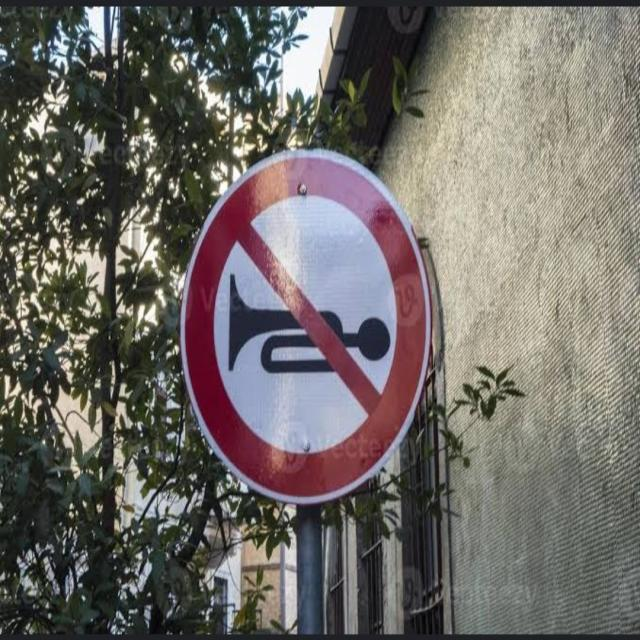horn prohibited: (178, 144, 429, 503)
